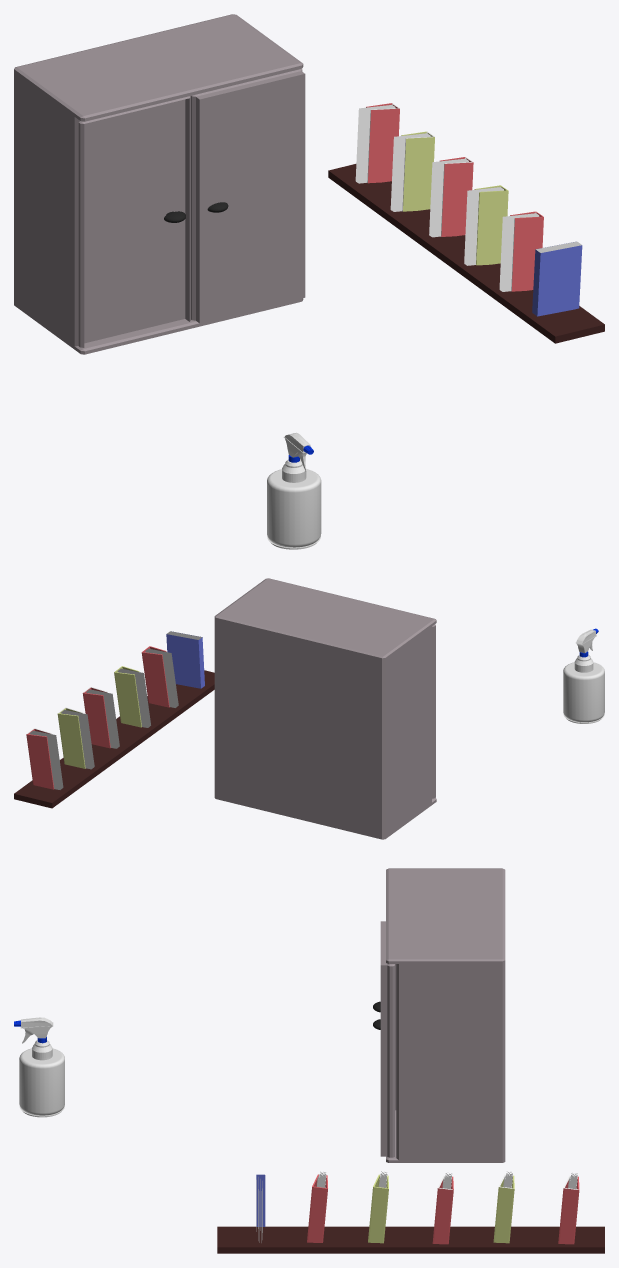
Rendered from Objetos Atencion Cliente Material.glb.
3 views of the same model, one above another, from view 1: azimuth 30°, elevation 25°; view 2: azimuth 150°, elevation 25°; view 3: azimuth 270°, elevation 25° (orthographic). The views are drawn at different scales.
Visible parts, largest first — view 1: mueble, Plane, alcohol en gel, Plane.019, Plane.005, Plane.001, Plane.003, Plane.004, Plane.002; view 2: mueble, Plane, alcohol en gel, Plane.019, Plane.004, Plane.002, Plane.005, Plane.003, Plane.001; view 3: mueble, Plane, alcohol en gel, Plane.001, Plane.005, Plane.004, Plane.003, Plane.002, Plane.019.
Boxes of the visible parts, <box> form: mueble: <box>14,14,305,354</box>; Plane: <box>328,164,604,343</box>; alcohol en gel: <box>267,432,321,549</box>; Plane.019: <box>532,241,582,316</box>; Plane.005: <box>390,131,434,211</box>; Plane.001: <box>429,157,473,237</box>; Plane.003: <box>464,185,508,265</box>; Plane.004: <box>355,103,399,183</box>; Plane.002: <box>499,211,543,291</box>; mueble: <box>214,578,436,839</box>; Plane: <box>14,670,214,808</box>; alcohol en gel: <box>563,628,604,723</box>; Plane.019: <box>166,631,204,688</box>; Plane.004: <box>26,728,63,789</box>; Plane.002: <box>141,646,178,707</box>; Plane.005: <box>57,707,94,769</box>; Plane.003: <box>114,666,150,727</box>; Plane.001: <box>82,687,119,748</box>; mueble: <box>373,868,505,1162</box>; Plane: <box>217,1226,604,1253</box>; alcohol en gel: <box>14,1017,64,1117</box>; Plane.001: <box>432,1173,453,1244</box>; Plane.005: <box>493,1171,514,1243</box>; Plane.004: <box>558,1173,579,1244</box>; Plane.003: <box>368,1171,388,1243</box>; Plane.002: <box>307,1171,327,1242</box>; Plane.019: <box>256,1174,265,1242</box>.
Bounding box in the file's own units: 24.4 × 14.75 × 33.41.
